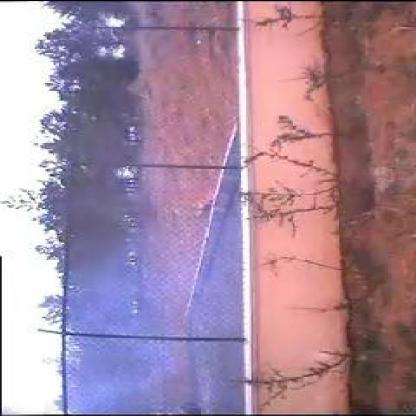-: (114, 221, 240, 376)
